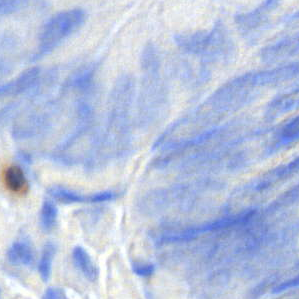Lymphocyte: (2, 162, 32, 197)
